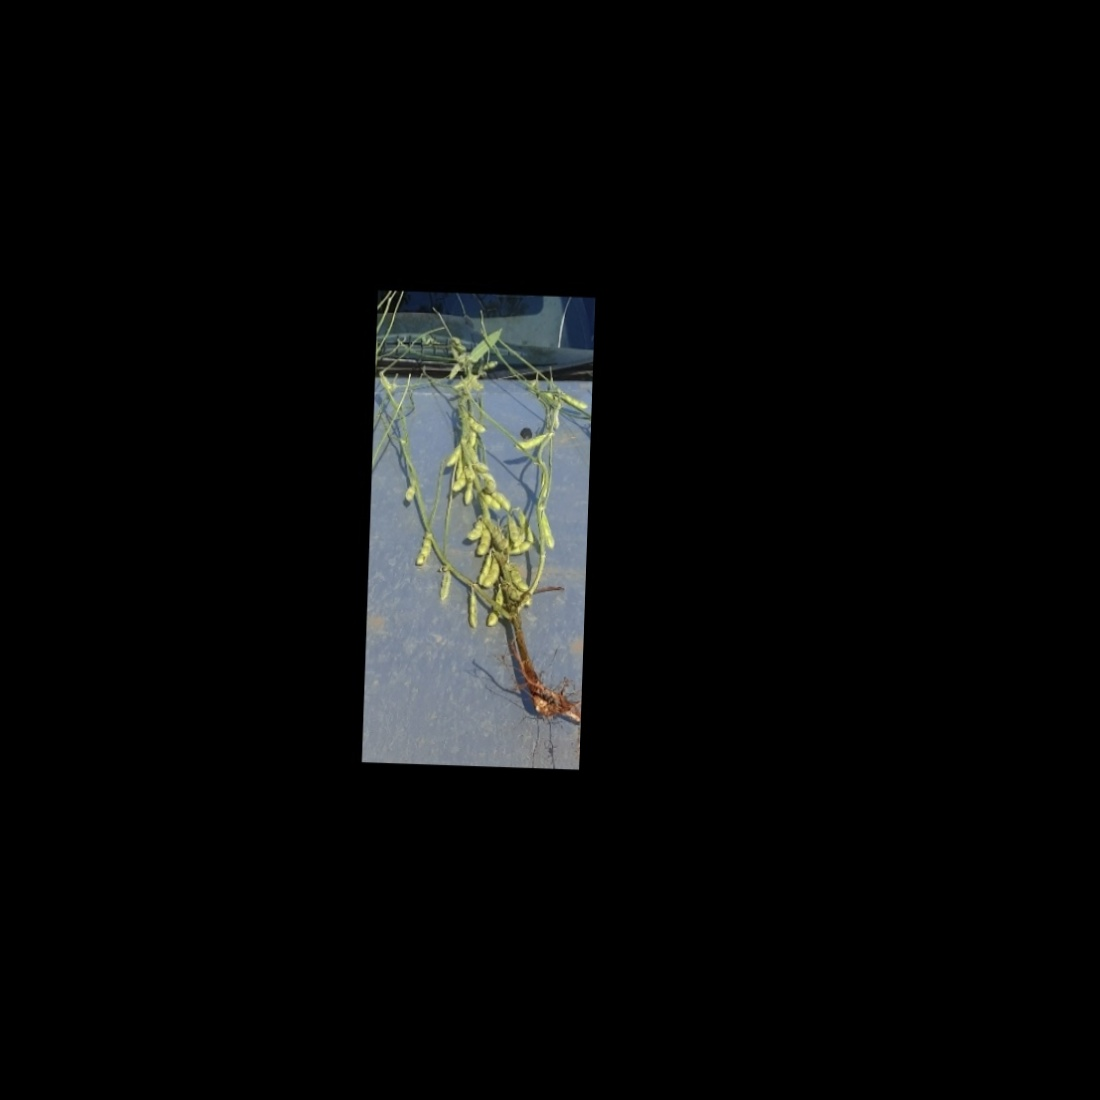pod: (538, 508, 559, 551), (414, 530, 435, 569), (512, 433, 550, 452), (465, 583, 482, 629), (472, 525, 495, 555), (435, 566, 452, 600), (463, 516, 487, 540)
soy: (369, 320, 589, 732)
